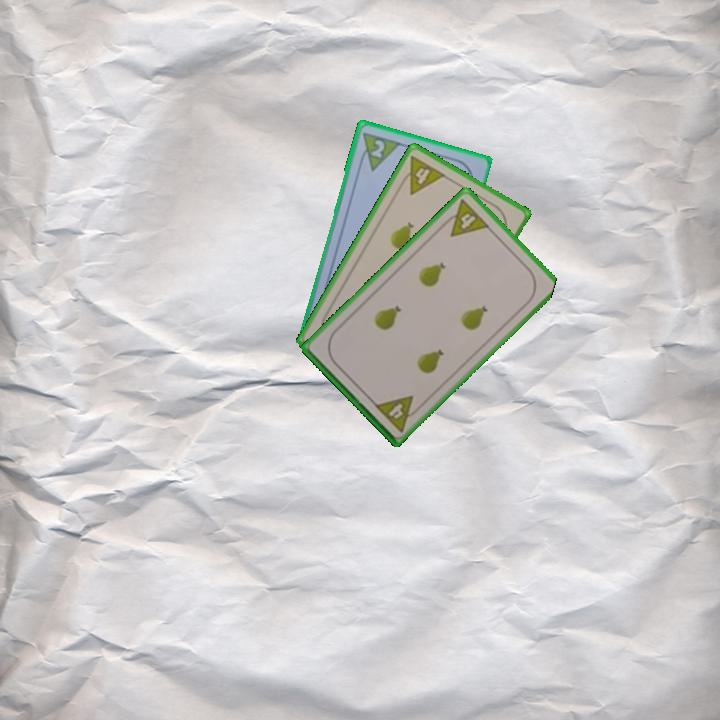2p: (354, 128, 403, 173)
4p: (395, 152, 448, 198), (438, 195, 492, 240), (371, 392, 424, 435)
